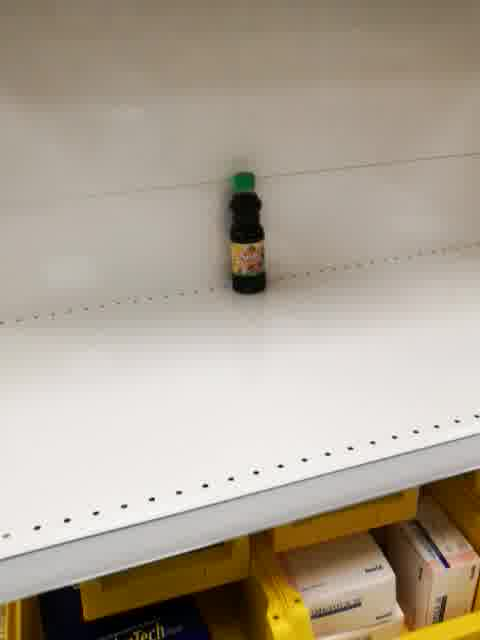cookingoil: (223, 170, 268, 296)
